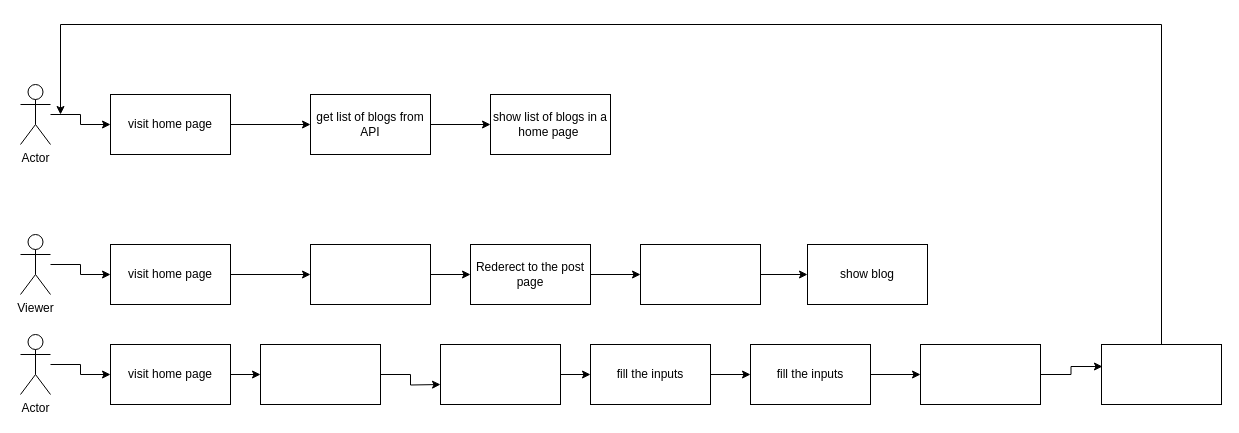
Some shapes in this 1239 by 433 pixel diagram are drawn without their labels. The shapes that lost their labels are listed below. From the top down, each one's centre as x and y in pixels, then its label:
At point (370, 274): "select individual Blog Post".
At point (700, 274): "get individual blog from API".
At point (320, 374): "click add icone".
At point (500, 374): "redirect to the new page".
At point (980, 374): "click submit".
At point (1161, 374): "add new blog post to api".
